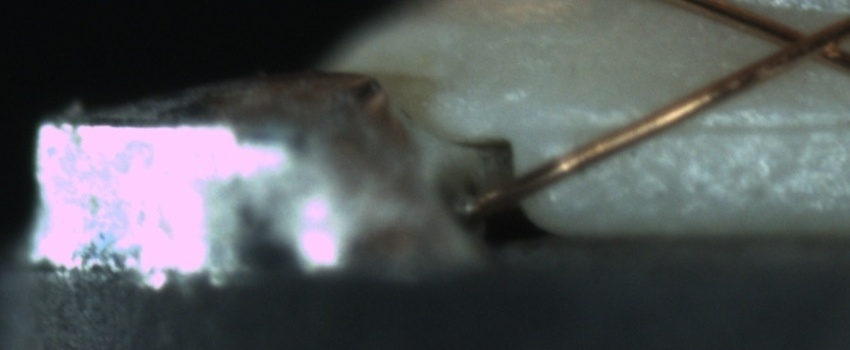CL: (760, 12, 847, 70)
DL: (553, 93, 850, 157)
